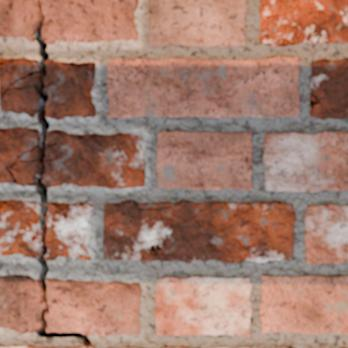brick: (107, 56, 298, 117), (103, 201, 294, 262), (155, 276, 250, 336), (157, 131, 252, 189), (260, 275, 347, 333), (263, 132, 347, 191), (148, 0, 246, 46), (259, 0, 347, 45), (305, 204, 347, 263), (310, 59, 347, 118), (7, 345, 40, 347), (77, 346, 94, 347)
broken_brick: (0, 0, 139, 44), (44, 129, 145, 189), (46, 278, 142, 336), (45, 59, 95, 120), (45, 202, 93, 260), (0, 274, 44, 334), (0, 200, 39, 258), (0, 127, 38, 183), (0, 57, 37, 92), (0, 88, 37, 117), (10, 162, 39, 186), (0, 96, 3, 101)
crack: (0, 2, 92, 345), (139, 200, 184, 211), (309, 94, 320, 111), (312, 59, 328, 63)
